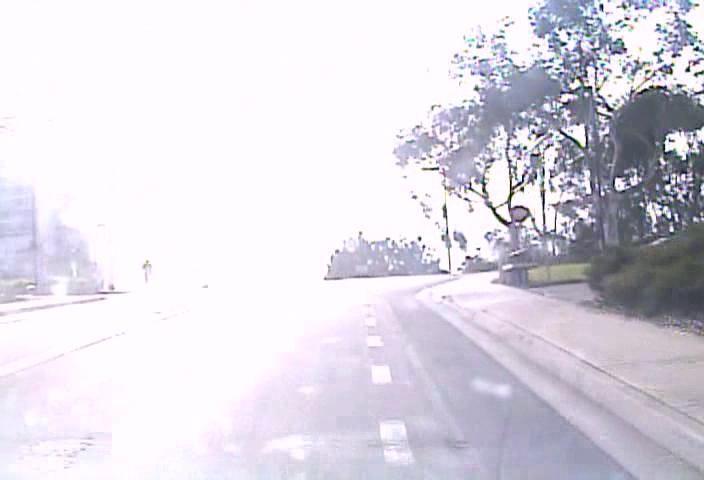stop: (509, 204, 529, 223)
